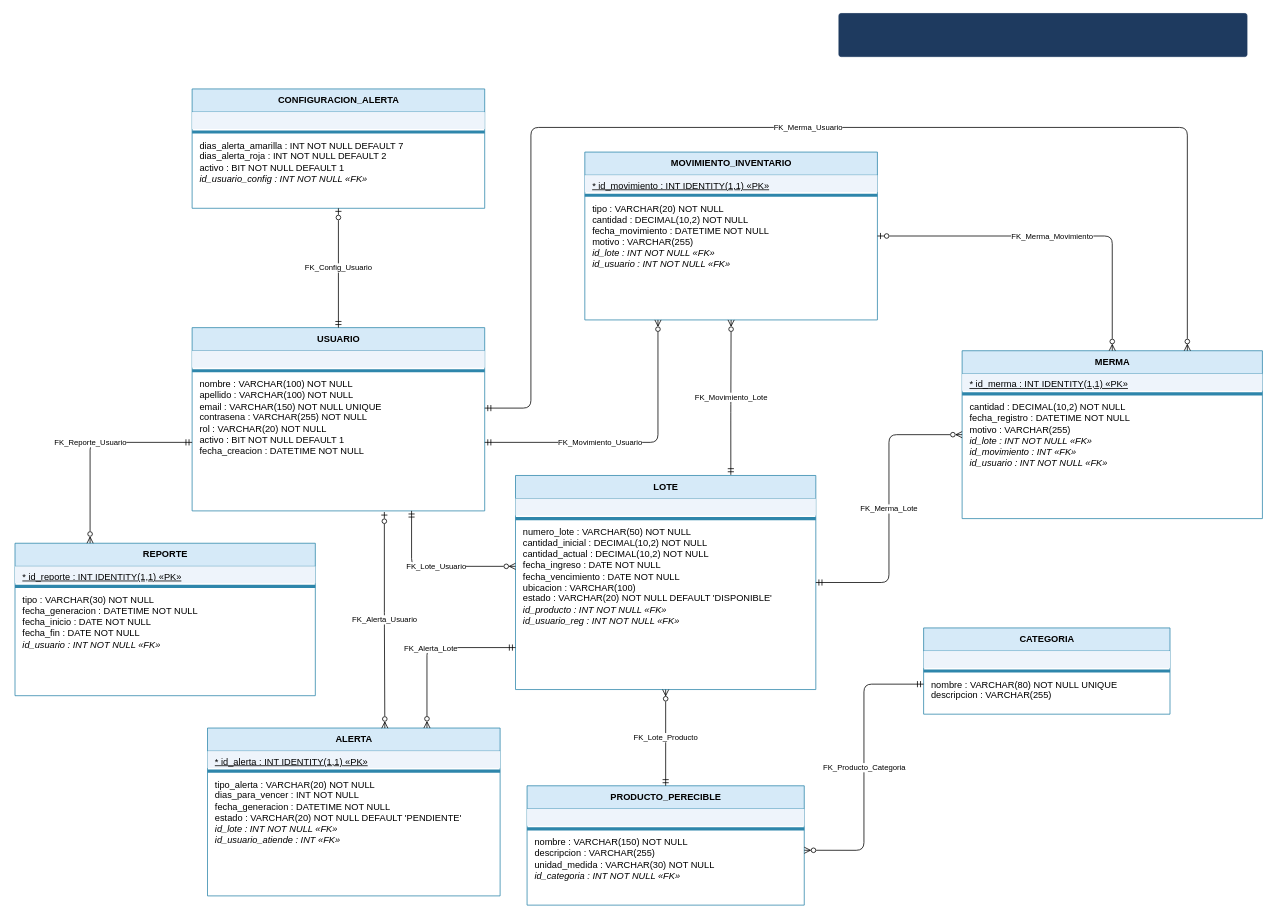
Image size: 1277x919. Some labels were removed from this diagram. The shapes that lost their labels are listed below. From the top down, each one's centre as x and y in pixels, then its label:
At [1042,35]: "Modelo Físico Sistema de Inventario de Productos Perecibles (SQL Server)".
At [338,120]: "* id_config : INT IDENTITY(1,1) «PK»".
At [338,358]: "* id_usuario : INT IDENTITY(1,1) «PK»".
At [665,506]: "* id_lote : INT IDENTITY(1,1) «PK»".
At [1046,659]: "* id_categoria : INT IDENTITY(1,1) «PK»".
At [665,816]: "* id_producto : INT IDENTITY(1,1) «PK»".
